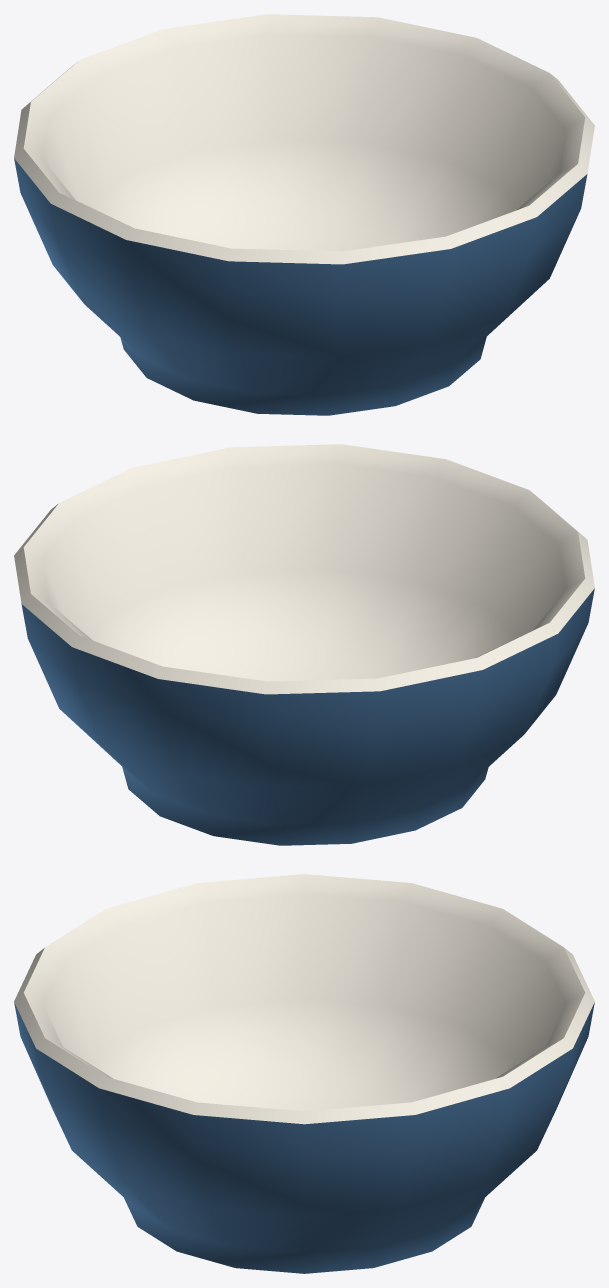
The model's file is bowl.glb.
3 views of the same model, one above another, from view 1: azimuth 30°, elevation 25°; view 2: azimuth 150°, elevation 25°; view 3: azimuth 270°, elevation 25° (orthographic).
Parts seen in each view (by area): view 1: bowl; view 2: bowl; view 3: bowl.
Boxes of the visible parts, x1,y1,x2,y2 form: bowl: (14,14,594,415); bowl: (14,444,594,845); bowl: (14,874,594,1273).
Bounding box in the file's own units: 0.18 × 0.07 × 0.18.
1 material, 1 textured.
